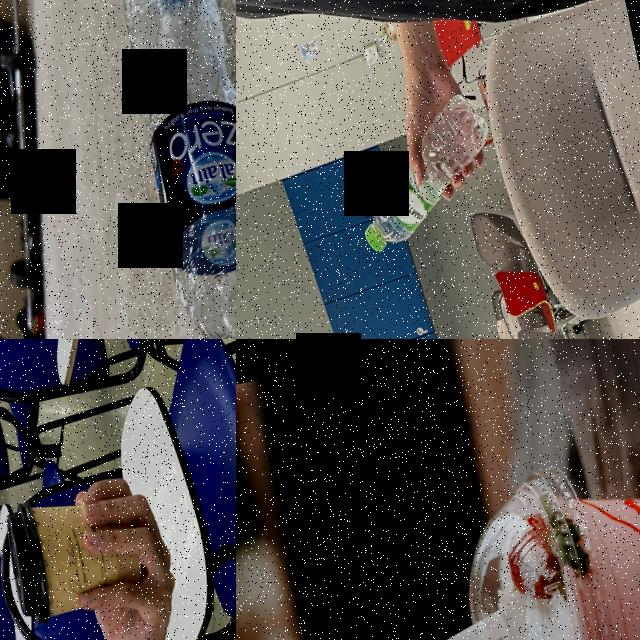bottle: (101, 0, 236, 339), (337, 84, 509, 256)
cup: (437, 417, 640, 640), (0, 476, 149, 627)
